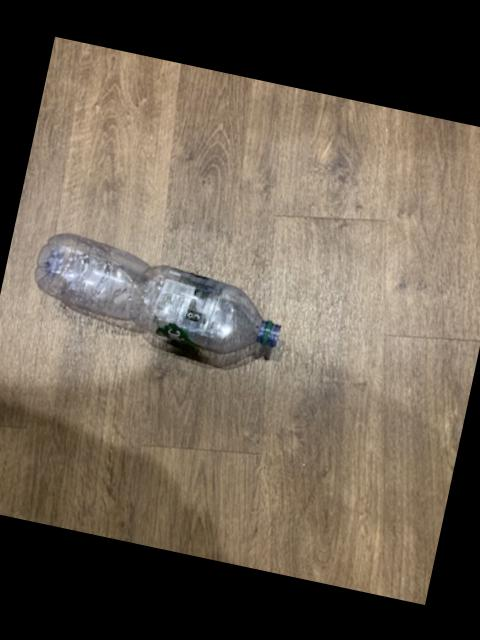plastic: (37, 235, 282, 354)
